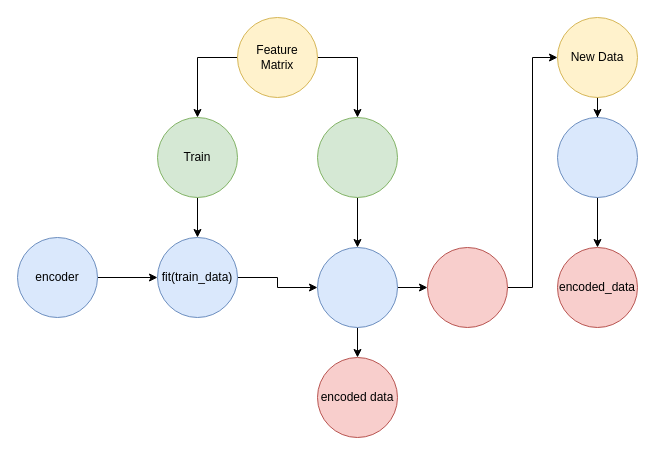
Image size: 655x455. Some labels were removed from this diagram. The shapes that lost their labels are listed below. From the top down, each one's box as (x1, y1, x2, y2) in pixels, then its label:
(316, 116, 398, 198): Test
(556, 116, 638, 198): calculate_ feature_ matrix()
(316, 246, 398, 328): transform (test_data)
(426, 246, 508, 328): Features
